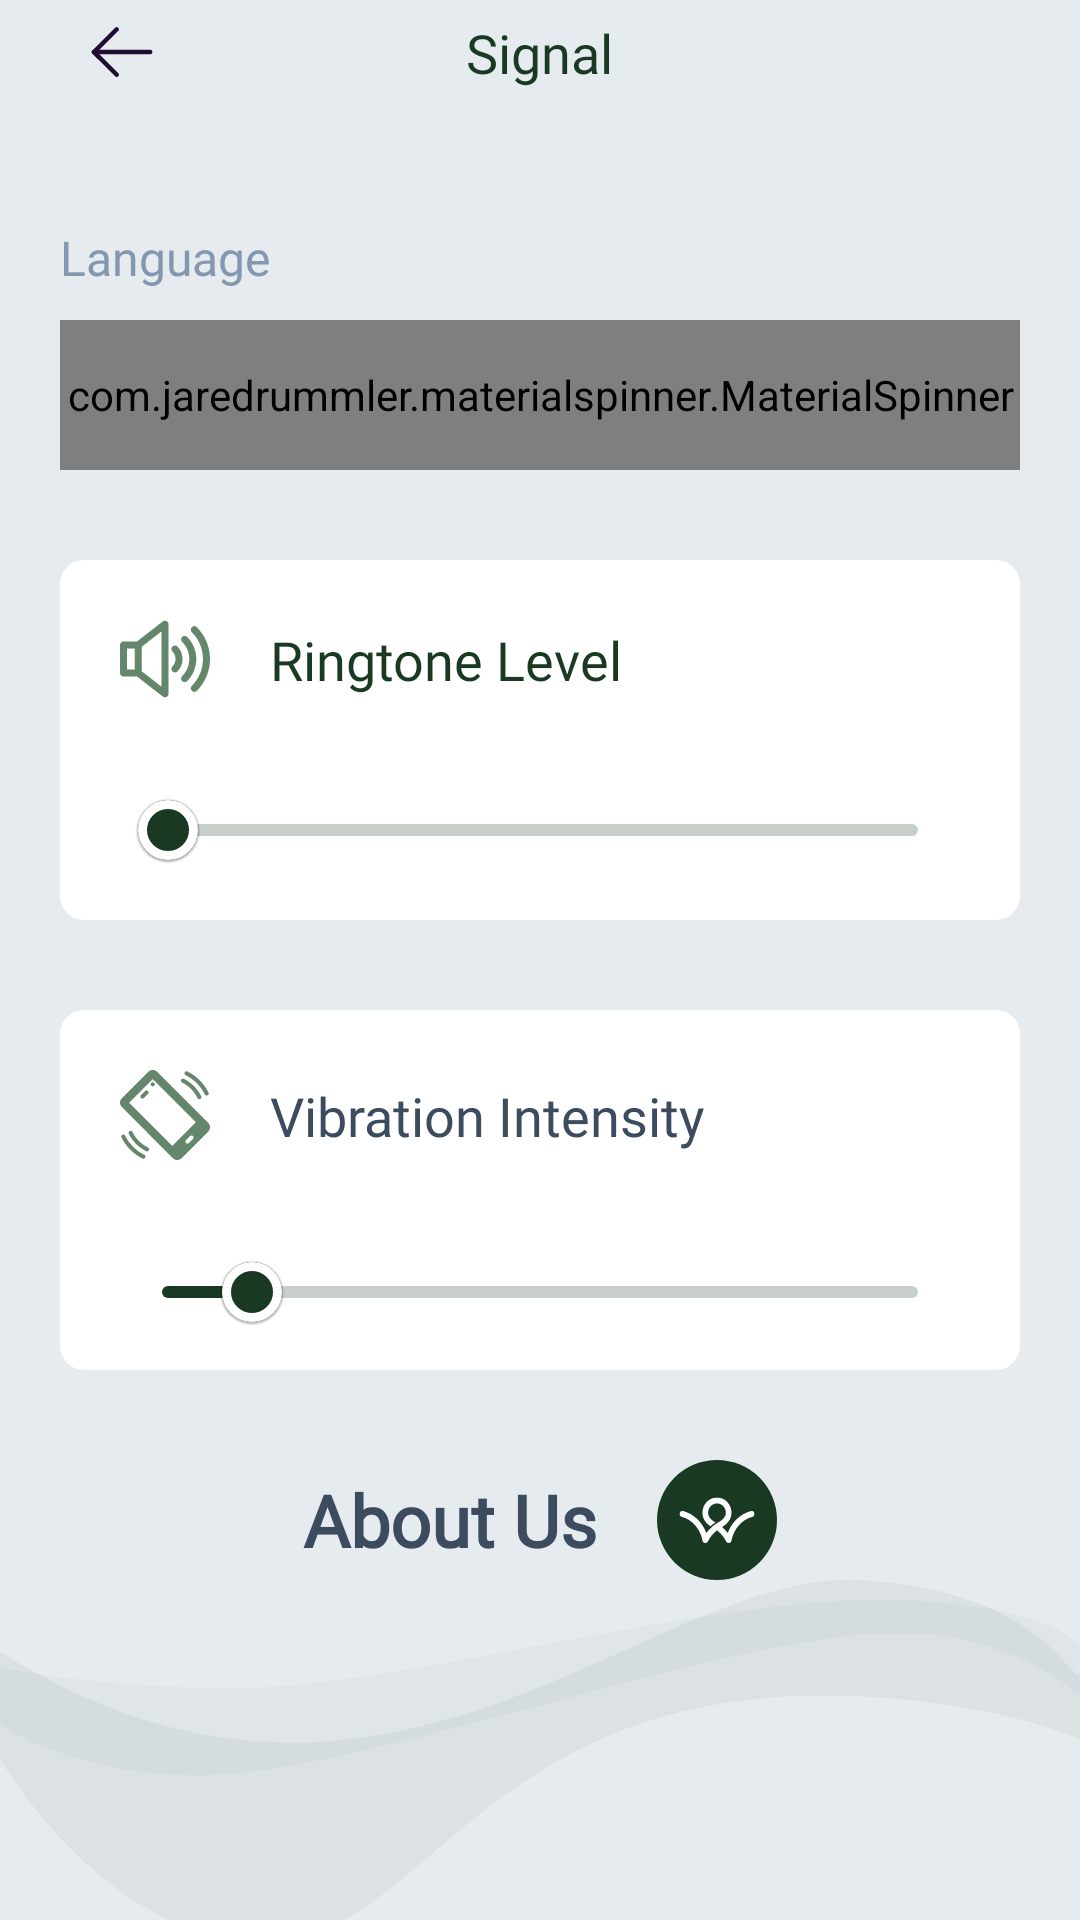

Screen size 1080×1920. Icon name, then its center in pixels as (x=x, y=y):
back: (x=122, y=52)
